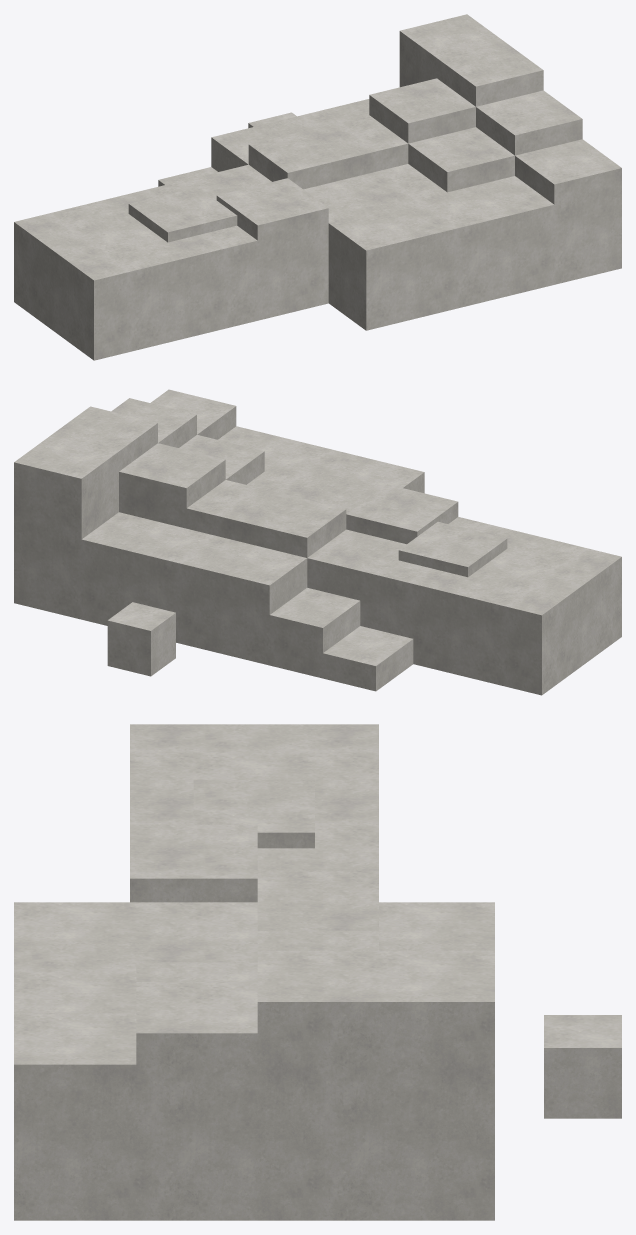
The model's file is table_metal_2-opt-v2.glb.
3 views of the same model, one above another, from view 1: azimuth 30°, elevation 25°; view 2: azimuth 150°, elevation 25°; view 3: azimuth 270°, elevation 25° (orthographic). The views are drawn at different scales.
Parts seen in each view (by area): view 1: Mesh_15.010; view 2: Mesh_15.010; view 3: Mesh_15.010.
Part boxes in pixels (<box>): Mesh_15.010: <box>14,14,621,360</box>; Mesh_15.010: <box>14,389,621,695</box>; Mesh_15.010: <box>14,724,621,1220</box>.
Size of the model in its own units: 5.08 by 1.39 by 3.51.
Materials: 1 (1 with a texture image).
